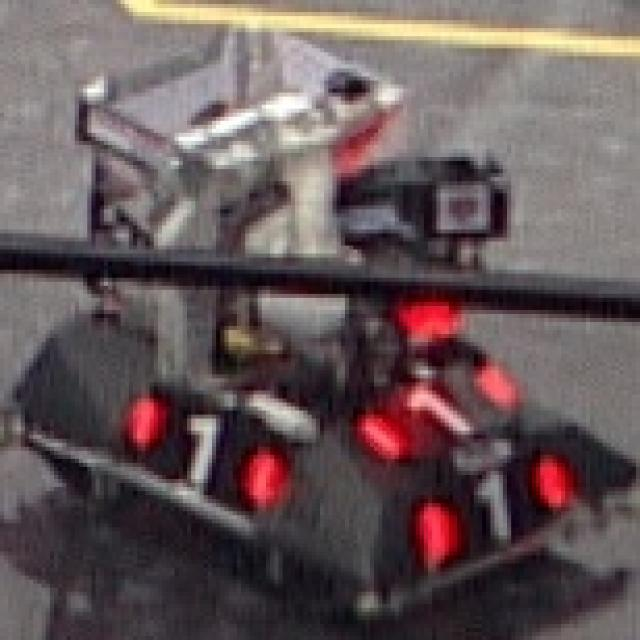R1: (110, 382, 293, 528), (341, 332, 524, 465), (414, 440, 572, 578)
